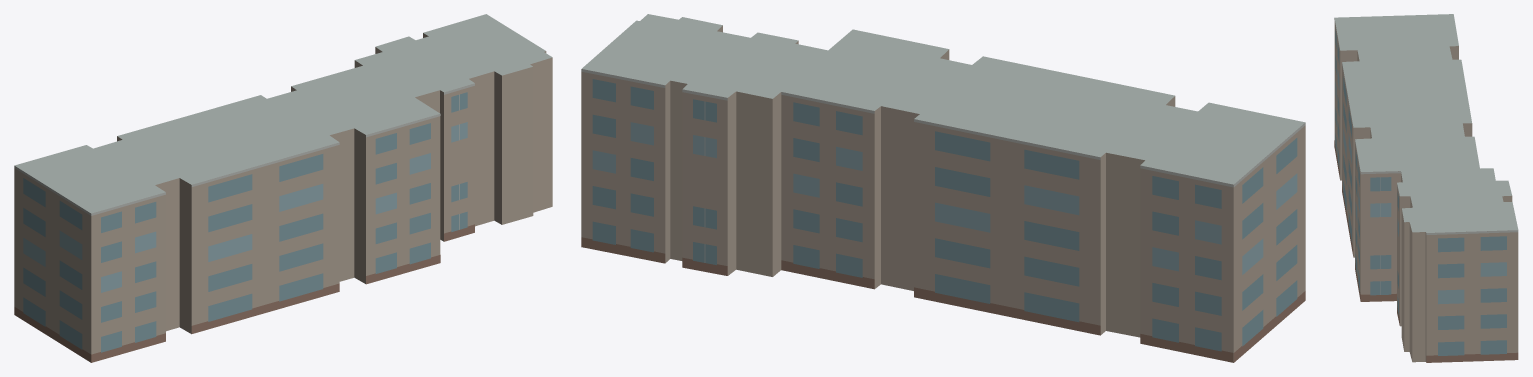
The model's file is survey-upis-32941385.glb.
The picture shows the model from 3 angles, left to right: view 1: azimuth 30°, elevation 25°; view 2: azimuth 150°, elevation 25°; view 3: azimuth 270°, elevation 25°; orthographic projection. The views are drawn at different scales.
Visible parts, largest first — view 1: survey-upis-32941385.tmp; view 2: survey-upis-32941385.tmp; view 3: survey-upis-32941385.tmp.
Part boxes in pixels (box(x1,y1,x2,y2)): survey-upis-32941385.tmp: box(14, 14, 552, 362); survey-upis-32941385.tmp: box(581, 14, 1305, 362); survey-upis-32941385.tmp: box(1334, 14, 1518, 362).
Size of the model in its own units: 55.18 by 15.25 by 19.58.
